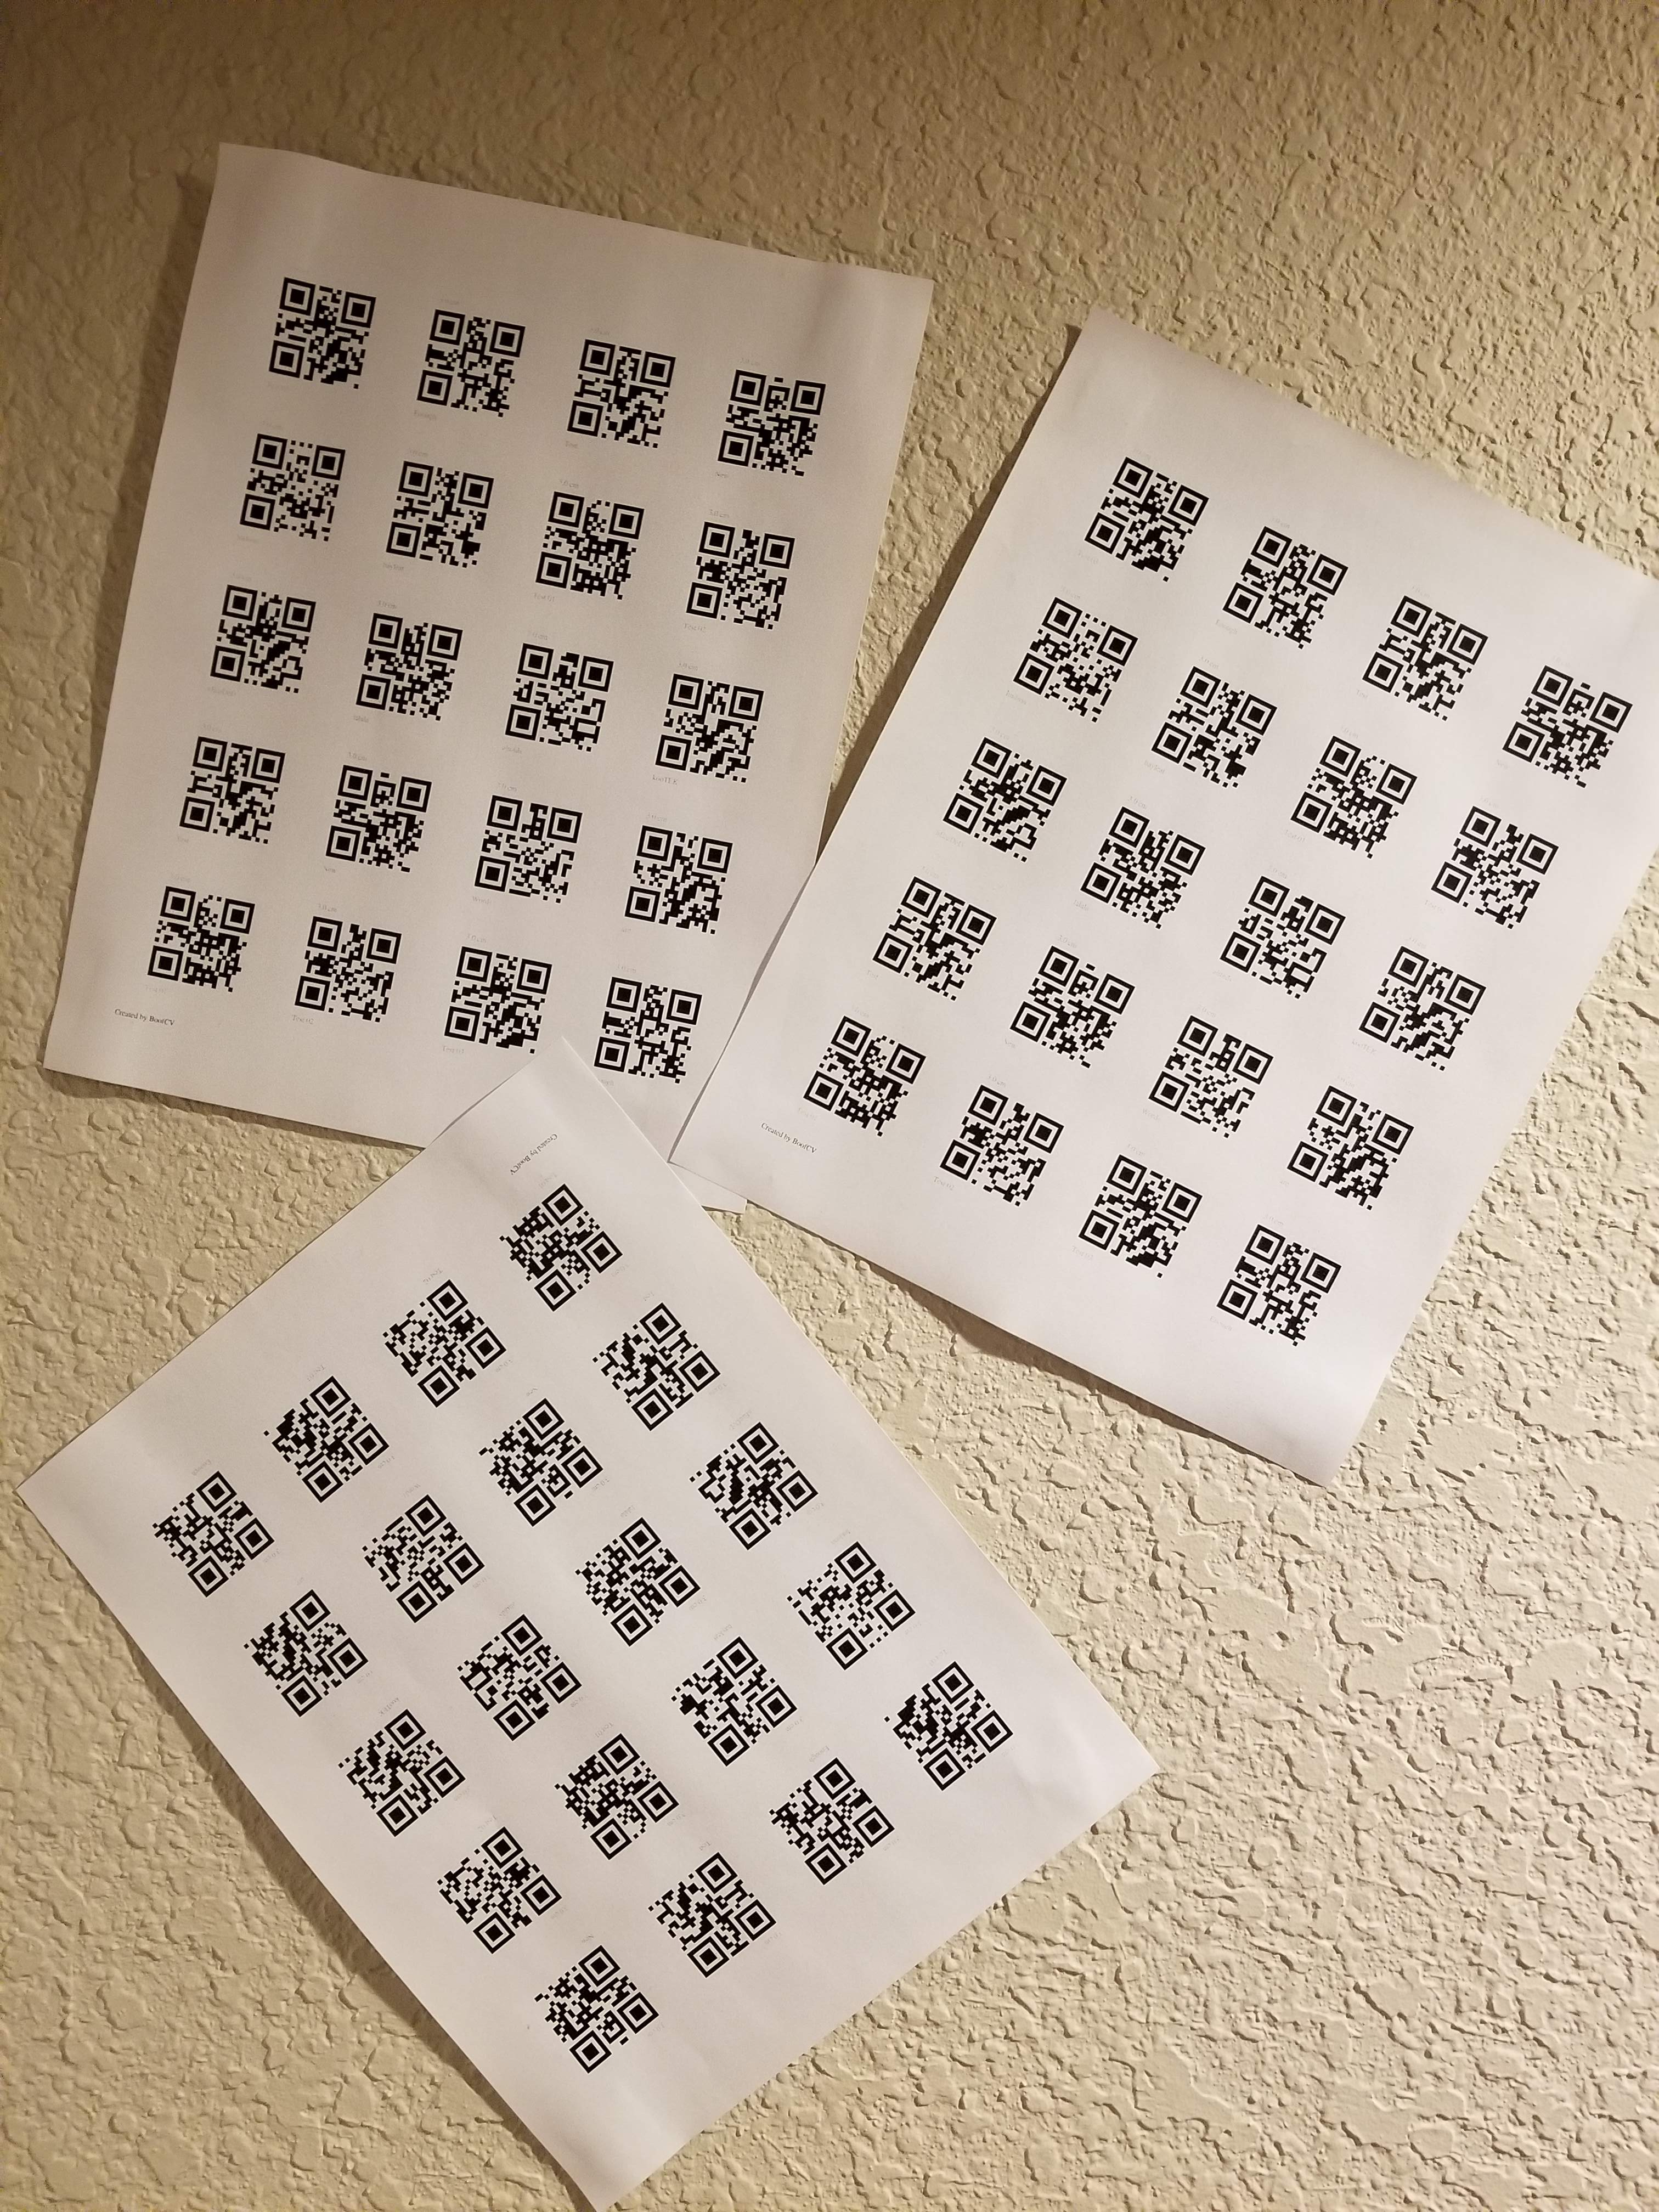QR_CODE: (1424, 794, 1577, 941), (249, 1360, 396, 1510), (368, 1261, 512, 1413), (1495, 646, 1638, 799), (1209, 1212, 1356, 1360), (999, 582, 1147, 726), (1352, 578, 1492, 732), (235, 1575, 375, 1728), (246, 244, 383, 399), (662, 1625, 807, 1771), (765, 1750, 911, 1895), (777, 1533, 922, 1677), (1277, 1071, 1425, 1212), (397, 287, 535, 439), (927, 728, 1072, 871), (788, 998, 931, 1143), (697, 347, 843, 488), (530, 1939, 669, 2087), (861, 866, 1006, 1007), (641, 1844, 788, 1984), (136, 1465, 282, 1604), (1140, 660, 1291, 794), (880, 1655, 1023, 1796), (469, 1393, 610, 1536), (568, 1505, 708, 1649), (429, 1824, 573, 1963), (544, 1724, 685, 1865), (1140, 1003, 1279, 1146), (329, 1702, 472, 1841), (1211, 521, 1356, 658), (1077, 442, 1213, 589), (1004, 930, 1140, 1076), (1072, 794, 1213, 934), (1356, 939, 1497, 1078), (354, 1487, 493, 1629), (544, 322, 688, 458), (1284, 726, 1424, 866), (586, 1298, 725, 1437), (681, 1413, 821, 1552), (446, 1606, 587, 1743), (493, 1174, 627, 1318), (486, 625, 624, 765), (1213, 867, 1351, 1005), (669, 503, 809, 639), (641, 664, 784, 794), (220, 415, 354, 552), (934, 1076, 1065, 1217), (181, 571, 326, 698), (1070, 1150, 1206, 1280), (127, 874, 265, 1003), (164, 718, 291, 857), (606, 813, 742, 942), (308, 751, 441, 881), (460, 782, 587, 913), (519, 482, 653, 604), (279, 904, 410, 1028), (587, 967, 708, 1101), (369, 453, 497, 578), (429, 934, 552, 1061), (345, 604, 465, 733)
